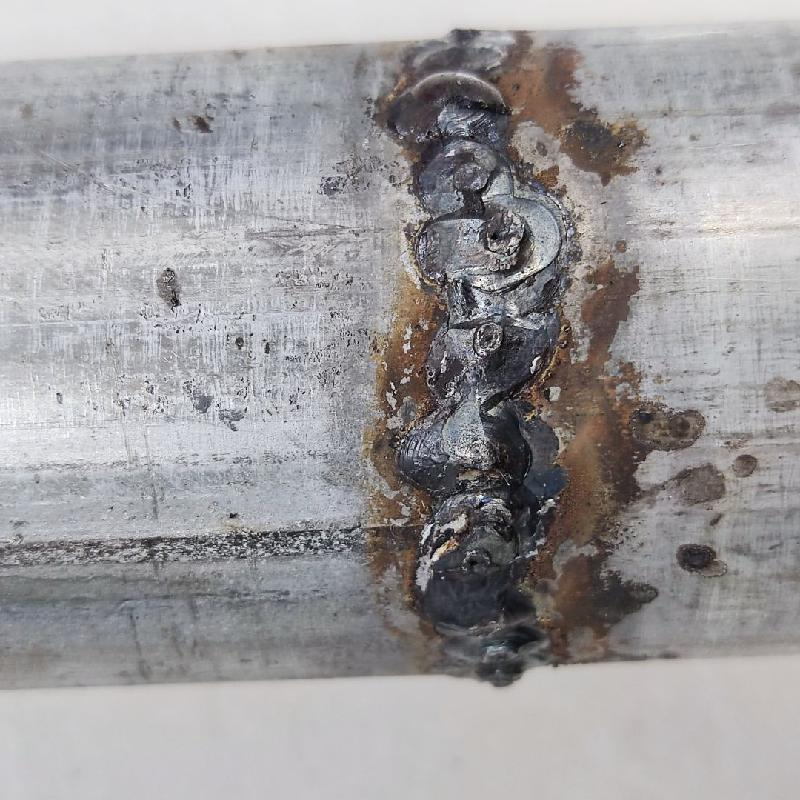wrong_size: (395, 33, 559, 653)
